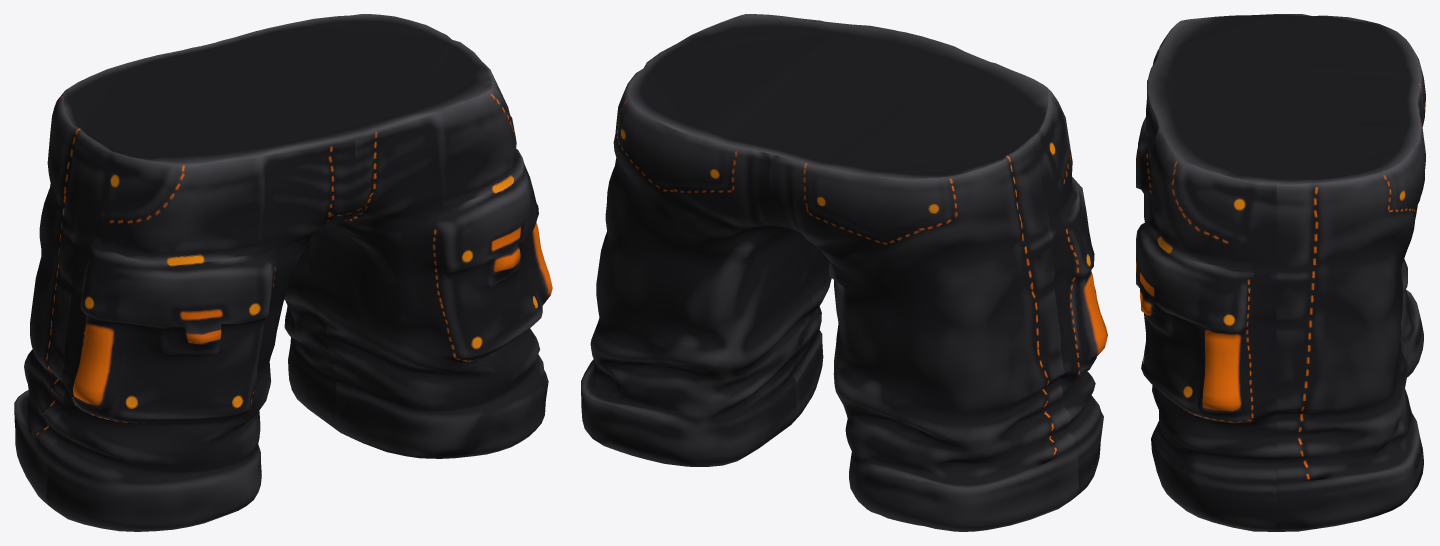
Rendered from Pants.glb.
3 renders of one model, left to right at view 1: azimuth 30°, elevation 25°; view 2: azimuth 150°, elevation 25°; view 3: azimuth 270°, elevation 25°, orthographic. The views are drawn at different scales.
Visible parts, largest first — view 1: Pants_low; view 2: Pants_low; view 3: Pants_low.
Boxes of the visible parts, <box> form: Pants_low: <box>14,14,552,531</box>; Pants_low: <box>581,14,1107,531</box>; Pants_low: <box>1136,14,1425,531</box>.
Size of the model in its own units: 0.4394 by 0.327 by 0.2502.
1 material, 1 textured.
